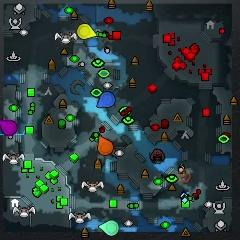p1: (96, 91, 115, 108)
p2: (99, 219, 119, 236)
p3: (0, 120, 18, 137)
p4: (77, 23, 96, 39)
p5: (98, 136, 112, 155)
